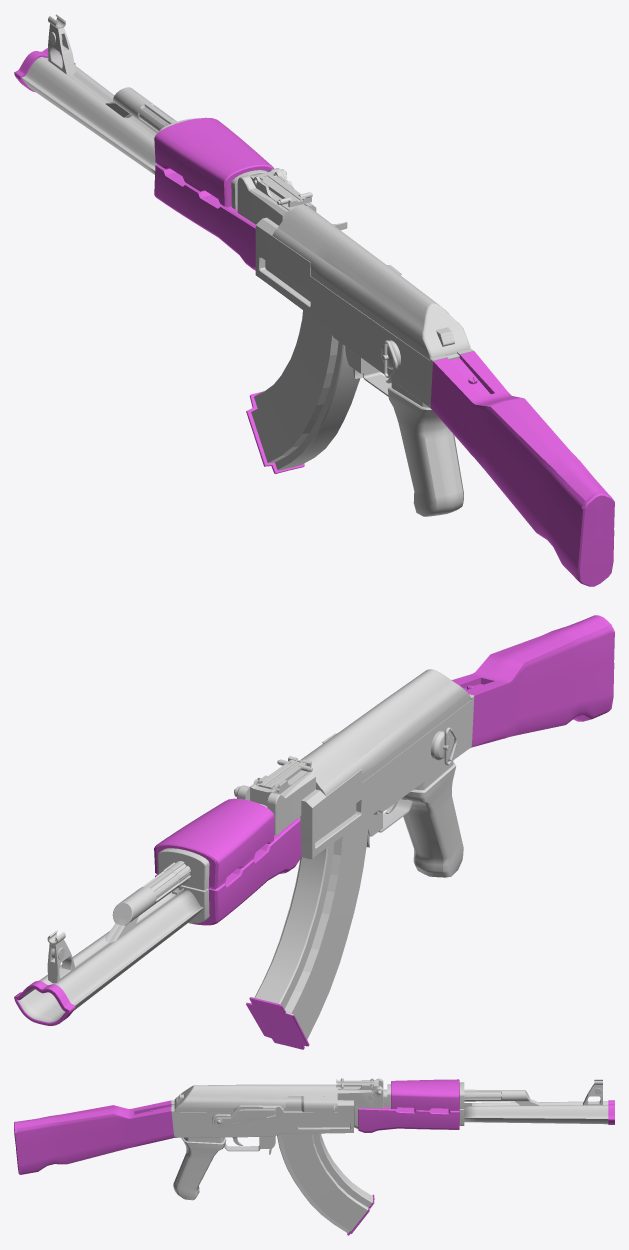
File: GameModel.fbx
The picture shows the model from 3 angles, top to bottom: view 1: azimuth 30°, elevation 25°; view 2: azimuth 150°, elevation 25°; view 3: azimuth 270°, elevation 25°; orthographic projection. The views are drawn at different scales.
Parts seen in each view (by area): view 1: ak47; view 2: ak47; view 3: ak47.
Boxes of the visible parts, <box> form: ak47: <box>14,14,614,586</box>; ak47: <box>14,615,614,1049</box>; ak47: <box>14,1078,614,1235</box>.
Size of the model in its own units: 49.16 by 172 by 615.
